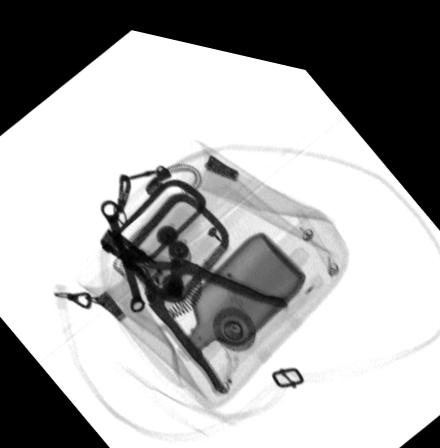Pliers: (96, 222, 286, 382)
Wrench: (97, 194, 143, 306)
